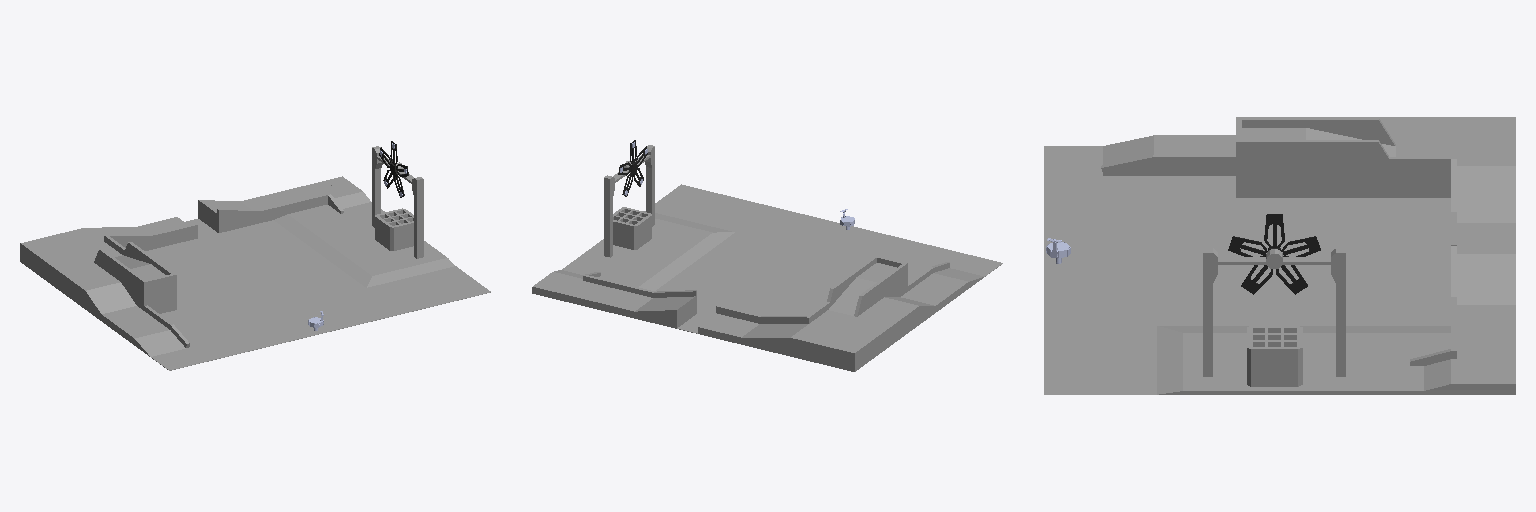
The robot description file, URDF, robot "single_2101t":
<?xml version="1.0" encoding="utf-8"?>
<!-- This URDF was automatically created by SolidWorks to URDF Exporter! Originally created by [author] ([email redacted]) 
     Commit Version: 1.5.1-0-g916b5db  Build Version: 1.5.7152.31018
     For more information, please see http://wiki.ros.org/sw_urdf_exporter -->
<!--
  made by...
      __  __   ______   __  __   ____         _____ ____   __                     
     / | / /  / ____/  / / / /  / __ \       / ___//  _/  / /____  ____  ____  __
    /  |/ /  / __/    / / / /  / / / /       \__ \ / /   / __/ _ \/ __ `/ __ `__ \
   / /|  /  / /___   / /_/ /  / /_/ /       ___/ // /   / /_/  __/ /_/ / / / / / /
  /_/ |_/  /_____/   \____/   \___\_\      /____/___/   \__/\___/\__,_/_/ /_/ /_/ 

-->
<robot
  name="single_2101t">
  <link name="base_link">
    <inertial>
      <origin
        xyz="-3.74242429934518 3.57616184684179 0.264668890885264"
        rpy="0 0 0" />
      <mass
        value="11149.8313730777" />
      <inertia
        ixx="35962.6468672116"
        ixy="1127.84693730384"
        ixz="719.353702236722"
        iyy="122455.278031136"
        iyz="564.025490833455"
        izz="156537.107222116" />
    </inertial>
    <visual>
      <origin
        xyz="0 0 0"
        rpy="0 0 0" />
      <geometry>
        <mesh
          filename="package://single_2101t/meshes/base_link.STL" />
      </geometry>
      <material
        name="">
        <color
          rgba="0.666666666666667 0.666666666666667 0.666666666666667 1" />
      </material>
    </visual>
    <collision>
      <origin
        xyz="0 0 0"
        rpy="0 0 0" />
      <geometry>
        <mesh
          filename="package://single_2101t/meshes/base_link.STL" />
      </geometry>
    </collision>
  </link>
  <link name="link_signal">
    <inertial>
      <origin
        xyz="-1.71598846243626E-13 3.5527136788005E-15 -0.0419091514118968"
        rpy="0 0 0" />
      <mass
        value="17.5139067248976" />
      <inertia
        ixx="0.319631625159453"
        ixy="-6.59194920871187E-17"
        ixz="3.36153653943533E-15"
        iyy="0.319631625159453"
        iyz="3.25097711130738E-17"
        izz="0.636396114556239" />
    </inertial>
    <visual>
      <origin
        xyz="0 0 0"
        rpy="0 0 0" />
      <geometry>
        <mesh
          filename="package://single_2101t/meshes/link_signal.STL" />
      </geometry>
      <material
        name="">
        <color
          rgba="0.203921568627451 0.203921568627451 0.203921568627451 1" />
      </material>
    </visual>
    <collision>
      <origin
        xyz="0 0 0"
        rpy="0 0 0" />
      <geometry>
        <mesh
          filename="package://single_2101t/meshes/link_signal.STL" />
      </geometry>
    </collision>
  </link>
  <joint
    name="joint_signal"
    type="revolute">
    <origin
      xyz="1.9709 1.997 2.239"
      rpy="1.5708 0 -1.5708" />
    <parent
      link="base_link" />
    <child
      link="link_signal" />
    <axis
      xyz="0 0 1" />
    <limit
      lower="-100000"
      upper="100000"
      effort="100"
      velocity="10" />
    <mimic
      joint=""
      multiplier="1"
      offset="0" />
  </joint>

  <transmission name="tran2">
    <type>transmission_interface/SimpleTransmission</type>
    <joint name="joint_signal">
      <hardwareInterface>EffortJointInterface</hardwareInterface>
    </joint>
    <actuator name="trans2">
      <hardwareInterface>EffortJointInterface</hardwareInterface>
      <mechanicalReduction>1</mechanicalReduction>
    </actuator>
  </transmission>

  <link name="1">
    <inertial>
      <origin
        xyz="1.21568033417674E-12 -0.0739499459008499 0.0786769806763417"
        rpy="0 0 0" />
      <mass
        value="0.048250466189271" />
      <inertia
        ixx="6.46853859674442E-05"
        ixy="5.43740644817718E-17"
        ixz="8.12405291657431E-18"
        iyy="7.21923880425893E-05"
        iyz="-1.6153406895818E-05"
        izz="0.000128149430960387" />
    </inertial>
    <visual>
      <origin
        xyz="0 0 0"
        rpy="0 0 0" />
      <geometry>
        <mesh
          filename="package://single_2101t/meshes/1.STL" />
      </geometry>
      <material
        name="">
        <color
          rgba="0.792156862745098 0.819607843137255 0.933333333333333 1" />
      </material>
    </visual>
    <collision>
      <origin
        xyz="0 0 0"
        rpy="0 0 0" />
      <geometry>
        <mesh
          filename="package://single_2101t/meshes/1.STL" />
      </geometry>
    </collision>
  </link>
  <joint
    name="jt_1"
    type="fixed">
    <origin
      xyz="-0.0025886 0.64536 -0.11182"
      rpy="-0.24436 0 3.1416" />
    <parent
      link="link_signal" />
    <child
      link="1" />
    <axis
      xyz="0 0 0" />
    <limit
      lower="-3.14"
      upper="3.14"
      effort="100"
      velocity="1" />
  </joint>
  <link name="2">
    <inertial>
      <origin
        xyz="1.2170264795941E-12 0.0739499459008535 -0.0786769806763381"
        rpy="0 0 0" />
      <mass
        value="0.0482504661892654" />
      <inertia
        ixx="6.4685385967436E-05"
        ixy="-5.7120513831041E-17"
        ixz="-1.07556243642351E-17"
        iyy="7.21923880425854E-05"
        iyz="-1.61534068958188E-05"
        izz="0.000128149430960373" />
    </inertial>
    <visual>
      <origin
        xyz="0 0 0"
        rpy="0 0 0" />
      <geometry>
        <mesh
          filename="package://single_2101t/meshes/2.STL" />
      </geometry>
      <material
        name="">
        <color
          rgba="0.792156862745098 0.819607843137255 0.933333333333333 1" />
      </material>
    </visual>
    <collision>
      <origin
        xyz="0 0 0"
        rpy="0 0 0" />
      <geometry>
        <mesh
          filename="package://single_2101t/meshes/2.STL" />
      </geometry>
    </collision>
  </link>
  <joint name="jt_2"
    type="fixed">
    <origin
      xyz="0.71731679647069 0.235177895494604 -0.106323395663714"
      rpy="2.95527009684331 0.0134785788358752 -1.26009049831673" />
    <parent
      link="link_signal" />
    <child
      link="2" />
    <axis
      xyz="-0.368521763663799 0.81478084291578 -0.447575566495283" />
    <limit
      lower="-3.14"
      upper="3.14"
      effort="100"
      velocity="1" />
  </joint>
  <link name="3">
    <inertial>
      <origin
        xyz="1.21758159110641E-12 0.0739499459008484 -0.0786769806763421"
        rpy="0 0 0" />
      <mass
        value="0.0482504661892763" />
      <inertia
        ixx="6.46853859674518E-05"
        ixy="-5.38035328095932E-17"
        ixz="-1.04345988772257E-17"
        iyy="7.21923880425932E-05"
        iyz="-1.61534068958195E-05"
        izz="0.000128149430960398" />
    </inertial>
    <visual>
      <origin
        xyz="0 0 0"
        rpy="0 0 0" />
      <geometry>
        <mesh
          filename="package://single_2101t/meshes/3.STL" />
      </geometry>
      <material
        name="">
        <color
          rgba="0.792156862745098 0.819607843137255 0.933333333333333 1" />
      </material>
    </visual>
    <collision>
      <origin
        xyz="0 0 0"
        rpy="0 0 0" />
      <geometry>
        <mesh
          filename="package://single_2101t/meshes/3.STL" />
      </geometry>
    </collision>
  </link>
  <joint name="jt_3"
    type="fixed">
    <origin
      xyz="0.443550111098946 -0.609552645708592 -0.112281542447151"
      rpy="2.8887092413026 -0.00098754001236071 -2.47349136163387" />
    <parent
      link="link_signal" />
    <child
      link="3" />
    <axis
      xyz="0.110267831426141 0.75456830476797 -0.646890778101037" />
    <limit
      lower="-3.14"
      upper="3.14"
      effort="100"
      velocity="1" />
  </joint>
  <link name="4">
    <inertial>
      <origin
        xyz="1.21813670261872E-12 0.0739499459008488 -0.0786769806763421"
        rpy="0 0 0" />
      <mass
        value="0.0482504661892674" />
      <inertia
        ixx="6.46853859674408E-05"
        ixy="-5.45963556482232E-17"
        ixz="-1.04989733812171E-17"
        iyy="7.21923880425853E-05"
        iyz="-1.61534068958162E-05"
        izz="0.000128149430960382" />
    </inertial>
    <visual>
      <origin
        xyz="0 0 0"
        rpy="0 0 0" />
      <geometry>
        <mesh
          filename="package://single_2101t/meshes/4.STL" />
      </geometry>
      <material
        name="">
        <color
          rgba="0.792156862745098 0.819607843137255 0.933333333333333 1" />
      </material>
    </visual>
    <collision>
      <origin
        xyz="0 0 0"
        rpy="0 0 0" />
      <geometry>
        <mesh
          filename="package://single_2101t/meshes/4.STL" />
      </geometry>
    </collision>
  </link>
  <joint name="jt_4"
    type="fixed">
    <origin
      xyz="-0.438373532109027 -0.60883447581268 -0.11453715706636"
      rpy="2.8698248558501 0.00249506299585105 2.50627405863163" />
    <parent
      link="link_signal" />
    <child
      link="4" />
    <axis
      xyz="0.934861599819828 -0.329335063075785 -0.132560195425246" />
    <limit
      lower="-3.14"
      upper="3.14"
      effort="100"
      velocity="1" />
  </joint>
  <link name="5">
    <inertial>
      <origin
        xyz="1.2161383011744E-12 0.0739499459008499 -0.0786769806763403"
        rpy="0 0 0" />
      <mass
        value="0.0482504661892636" />
      <inertia
        ixx="6.46853859674336E-05"
        ixy="-5.49063697069183E-17"
        ixz="-8.50082265864416E-18"
        iyy="7.21923880425808E-05"
        iyz="-1.61534068958156E-05"
        izz="0.000128149430960369" />
    </inertial>
    <visual>
      <origin
        xyz="0 0 0"
        rpy="0 0 0" />
      <geometry>
        <mesh
          filename="package://single_2101t/meshes/5.STL" />
      </geometry>
      <material
        name="">
        <color
          rgba="0.792156862745098 0.819607843137255 0.933333333333333 1" />
      </material>
    </visual>
    <collision>
      <origin
        xyz="0 0 0"
        rpy="0 0 0" />
      <geometry>
        <mesh
          filename="package://single_2101t/meshes/5.STL" />
      </geometry>
    </collision>
  </link>
  <joint name="jt_5"
    type="fixed">
    <origin
      xyz="-0.706761356141555 0.228665984217599 -0.119104105067502"
      rpy="2.8253399999021 -0.0141477446809957 1.30292235841985" />
    <parent
      link="link_signal" />
    <child
      link="5" />
    <axis
      xyz="0 0 0" />
    <limit
      lower="-3.14"
      upper="3.14"
      effort="100"
      velocity="1" />
  </joint>
  <link name="link_body">
    <inertial>
      <origin
        xyz="-0.00241317566097571 0.232451072122631 -0.0102363509660908"
        rpy="0 0 0" />
      <mass
        value="15.4805778908806" />
      <inertia
        ixx="0.166590587683924"
        ixy="-7.79834081852165E-19"
        ixz="-4.24469509218448E-17"
        iyy="0.246346179703462"
        iyz="2.82893805291715E-17"
        izz="0.166590587683924" />
    </inertial>
    <visual>
      <origin
        xyz="0 0 0"
        rpy="0 0 0" />
      <geometry>
        <mesh
          filename="package://single_2101t/meshes/link_body.STL" />
      </geometry>
      <material
        name="">
        <color
          rgba="0.792156862745098 0.819607843137255 0.933333333333333 1" />
      </material>
    </visual>
    <collision>
      <origin
        xyz="0 0 0"
        rpy="0 0 0" />
      <geometry>
        <mesh
          filename="package://single_2101t/meshes/link_body.STL" />
      </geometry>
    </collision>
  </link>
  <joint name="joint_body"
    type="revolute">
    <origin
      xyz="-2.5265 -1.6611 -0.0088161"
      rpy="1.5708 0 3.1416" />
    <parent
      link="base_link" />
    <child
      link="link_body" />
    <axis
      xyz="0 -1 0" />
    <limit
      lower="-3.14"
      upper="10000000"
      effort="100"
      velocity="10" />
  </joint>
  <transmission name="tran1">
    <type>transmission_interface/SimpleTransmission</type>
    <joint name="joint_body">
      <hardwareInterface>EffortJointInterface</hardwareInterface>
    </joint>
    <actuator name="trans">
      <hardwareInterface>EffortJointInterface</hardwareInterface>
      <mechanicalReduction>1</mechanicalReduction>
    </actuator>
  </transmission>

  <link name="link_twinkle">
    <inertial>
      <origin
        xyz="1.74207662531067E-05 0.144085474466383 -0.0251371770621405"
        rpy="0 0 0" />
      <mass
        value="0.246053272410611" />
      <inertia
        ixx="0.000234418150086636"
        ixy="-8.01318192430068E-08"
        ixz="5.95858213073514E-08"
        iyy="0.000458101383474959"
        iyz="6.65798752198305E-06"
        izz="0.000599407609719636" />
    </inertial>
    <visual>
      <origin
        xyz="0 0 0"
        rpy="0 0 0" />
      <geometry>
        <mesh
          filename="package://single_2101t/meshes/link_twinkle.STL" />
      </geometry>
      <material
        name="">
        <color
          rgba="0.792156862745098 0.819607843137255 0.933333333333333 1" />
      </material>
    </visual>
    <collision>
      <origin
        xyz="0 0 0"
        rpy="0 0 0" />
      <geometry>
        <mesh
          filename="package://single_2101t/meshes/link_twinkle.STL" />
      </geometry>
    </collision>
  </link>
  <joint
    name="joint_twinkle"
    type="fixed">
    <origin
      xyz="-0.13609700747485 0.310895064916623 -0.067100273989678"
      rpy="0 1.17809724509618 0" />
    <parent
      link="link_body" />
    <child
      link="link_twinkle" />
    <axis
      xyz="0 0 0" />
    <limit
      lower="-3.14"
      upper="3.14"
      effort="100"
      velocity="1" />
  </joint>
  <link name="link_shield">
    <inertial>
      <origin
        xyz="0.063116087282352 0.0646408367320647 -0.0448980198801134"
        rpy="0 0 0" />
      <mass
        value="0.42384267969433" />
      <inertia
        ixx="0.000822120470959803"
        ixy="4.35788395946006E-13"
        ixz="8.05549528991312E-13"
        iyy="0.000583837517307971"
        iyz="3.15499591266956E-13"
        izz="0.000822120458784991" />
    </inertial>
    <visual>
      <origin
        xyz="0 0 0"
        rpy="0 0 0" />
      <geometry>
        <mesh
          filename="package://single_2101t/meshes/link_shield.STL" />
      </geometry>
      <material
        name="">
        <color
          rgba="0.792156862745098 0.819607843137255 0.933333333333333 1" />
      </material>
    </visual>
    <collision>
      <origin
        xyz="0 0 0"
        rpy="0 0 0" />
      <geometry>
        <mesh
          filename="package://single_2101t/meshes/link_shield.STL" />
      </geometry>
    </collision>
  </link>
  <joint
    name="joint_shield"
    type="fixed">
    <origin
      xyz="0.0731169198036217 0.181812877626046 -0.0274009819282082"
      rpy="3.14159265358979 0.394849912112585 3.14159265358979" />
    <parent
      link="link_body" />
    <child
      link="link_shield" />
    <axis
      xyz="0 0 0" />
    <limit
      lower="-3.14"
      upper="3.14"
      effort="100"
      velocity="1" />
  </joint>
  <gazebo reference="1">
    <material>Gazebo/BlueLaser</material>
    <turnGravityOff>false</turnGravityOff>
  </gazebo>
  <gazebo reference="2">
    <material>Gazebo/BlueLaser</material>
    <turnGravityOff>false</turnGravityOff>
  </gazebo>
  <gazebo reference="3">
    <material>Gazebo/BlueLaser</material>
    <turnGravityOff>false</turnGravityOff>
  </gazebo>
  <gazebo reference="4">
    <material>Gazebo/BlueLaser</material>
    <turnGravityOff>false</turnGravityOff>
  </gazebo>
  <gazebo reference="5">
    <material>Gazebo/BlueLaser</material>
    <turnGravityOff>false</turnGravityOff>
  </gazebo>
  <gazebo reference="base_link">
    <material>Gazebo/DarkGrey</material>
    <turnGravityOff>false</turnGravityOff>
  </gazebo>
  <gazebo reference="link_signal">
    <material>Gazebo/Grey</material>
    <turnGravityOff>false</turnGravityOff>
  </gazebo>
  <gazebo reference="link_body">
    <material>Gazebo/Grey</material>
    <turnGravityOff>false</turnGravityOff>
  </gazebo>
  <gazebo reference="link_twinkle">
    <material>Gazebo/BlueLaser</material>
    <turnGravityOff>false</turnGravityOff>
  </gazebo>
  <gazebo reference="link_shield">
    <material>Gazebo/DarkGrey</material>
    <turnGravityOff>false</turnGravityOff>
  </gazebo>

  <gazebo>
    <plugin name="gazebo_ros_control" filename="libgazebo_ros_control.so">
         <robotNamespace>/single_2101t/single_2101t</robotNamespace>
	  <legacyModeNS>true</legacyModeNS>
        <controlPeriod>0.01</controlPeriod>
        <robotSimType>gazebo_ros_control/DefaultRobotHWSim</robotSimType>
    </plugin>
  </gazebo>

</robot>

--- Render facts (derived) ---
3 views of the same robot in one strip: view 1: azimuth 30°, elevation 25°; view 2: azimuth 150°, elevation 25°; view 3: azimuth 270°, elevation 25° (orthographic).
Robot: single_2101t — 10 links, 9 joints (2 revolute, 7 fixed); root link base_link; default pose: every joint at zero.
Visible links, largest first — view 1: base_link, link_signal; view 2: base_link, link_signal; view 3: base_link, link_signal.
Link boxes in pixels (x1=…): base_link: x1=20, y1=146, x2=490, y2=370; link_signal: x1=379, y1=141, x2=408, y2=197; base_link: x1=532, y1=145, x2=1002, y2=371; link_signal: x1=618, y1=140, x2=647, y2=196; base_link: x1=1044, y1=117, x2=1515, y2=394; link_signal: x1=1228, y1=214, x2=1320, y2=294.
Size in the robot's own frame: 10 by 8 by 3.04 metres.
10 mesh visuals loaded from 10 distinct referenced files (10 binary STL).